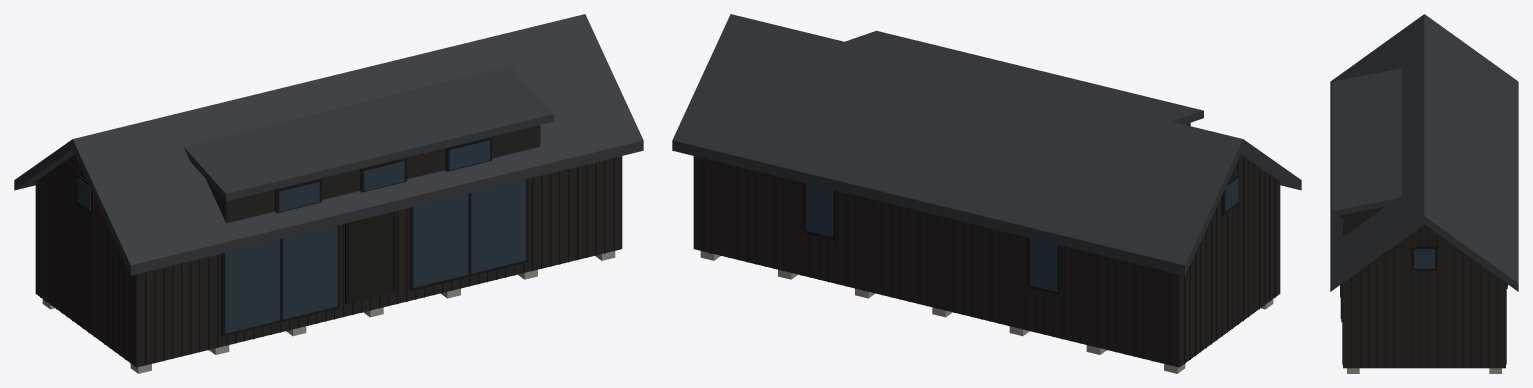
The model's file is hus-r3.glb.
3 renders of one model, left to right at view 1: azimuth 30°, elevation 25°; view 2: azimuth 150°, elevation 25°; view 3: azimuth 270°, elevation 25°, orthographic. The views are drawn at different scales.
Parts seen in each view (by area): view 1: del15, del14, del159, del161, del166, del158, del164, del165, del160, del169, del173, del171 (+1 smaller); view 2: del15, del14, del159, del179, del181; view 3: del15, del14, del159, del158, del175, del174, del135, del145, del139, del141, del131, del149 (+4 smaller).
Boxes of the visible parts, bbox=[...] form: del15: bbox=[14, 14, 643, 275]; del14: bbox=[35, 154, 622, 367]; del159: bbox=[183, 66, 553, 201]; del161: bbox=[225, 225, 337, 333]; del166: bbox=[413, 179, 525, 287]; del158: bbox=[206, 125, 540, 223]; del164: bbox=[348, 212, 393, 303]; del165: bbox=[409, 179, 528, 290]; del160: bbox=[221, 225, 339, 336]; del169: bbox=[278, 182, 319, 211]; del173: bbox=[449, 140, 489, 170]; del171: bbox=[364, 161, 404, 190]; del15: bbox=[672, 14, 1301, 275]; del14: bbox=[693, 154, 1280, 367]; del159: bbox=[845, 30, 1203, 124]; del179: bbox=[1030, 238, 1057, 291]; del181: bbox=[805, 183, 832, 237]; del15: bbox=[1330, 14, 1518, 291]; del14: bbox=[1343, 224, 1505, 368]; del159: bbox=[1332, 68, 1401, 216]; del158: bbox=[1343, 207, 1384, 236]; del175: bbox=[1414, 249, 1434, 268]; del174: bbox=[1411, 246, 1437, 270]; del135: bbox=[1445, 240, 1446, 367]; del145: bbox=[1402, 240, 1403, 367]; del139: bbox=[1428, 227, 1429, 368]; del141: bbox=[1419, 227, 1420, 368]; del131: bbox=[1462, 252, 1463, 368]; del149: bbox=[1385, 252, 1386, 368].
Size of the model in its own units: 11.43 by 4.35 by 4.5.
